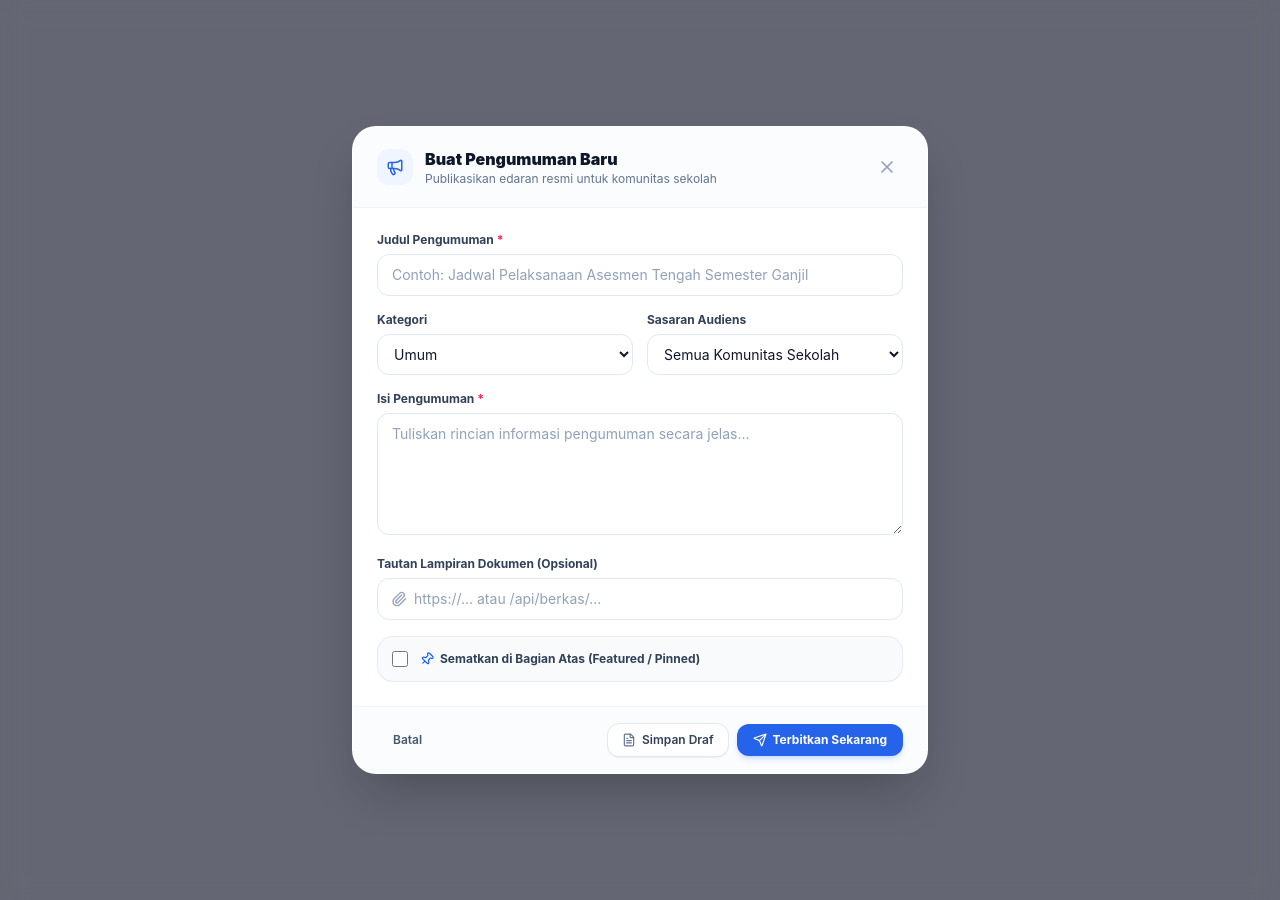
Test: M16 & M17 Presentation Views — Academic Glass UI v1.2 › merender CreateAnnouncementModal dan memvalidasi input
expect the heading "Buat Pengumuman Baru" is shown: met, box [425, 149, 618, 169]
Klik Terbitkan dengan input kosong
Click the button "Terbitkan Sekarang" at (820, 740), box [736, 724, 903, 756]
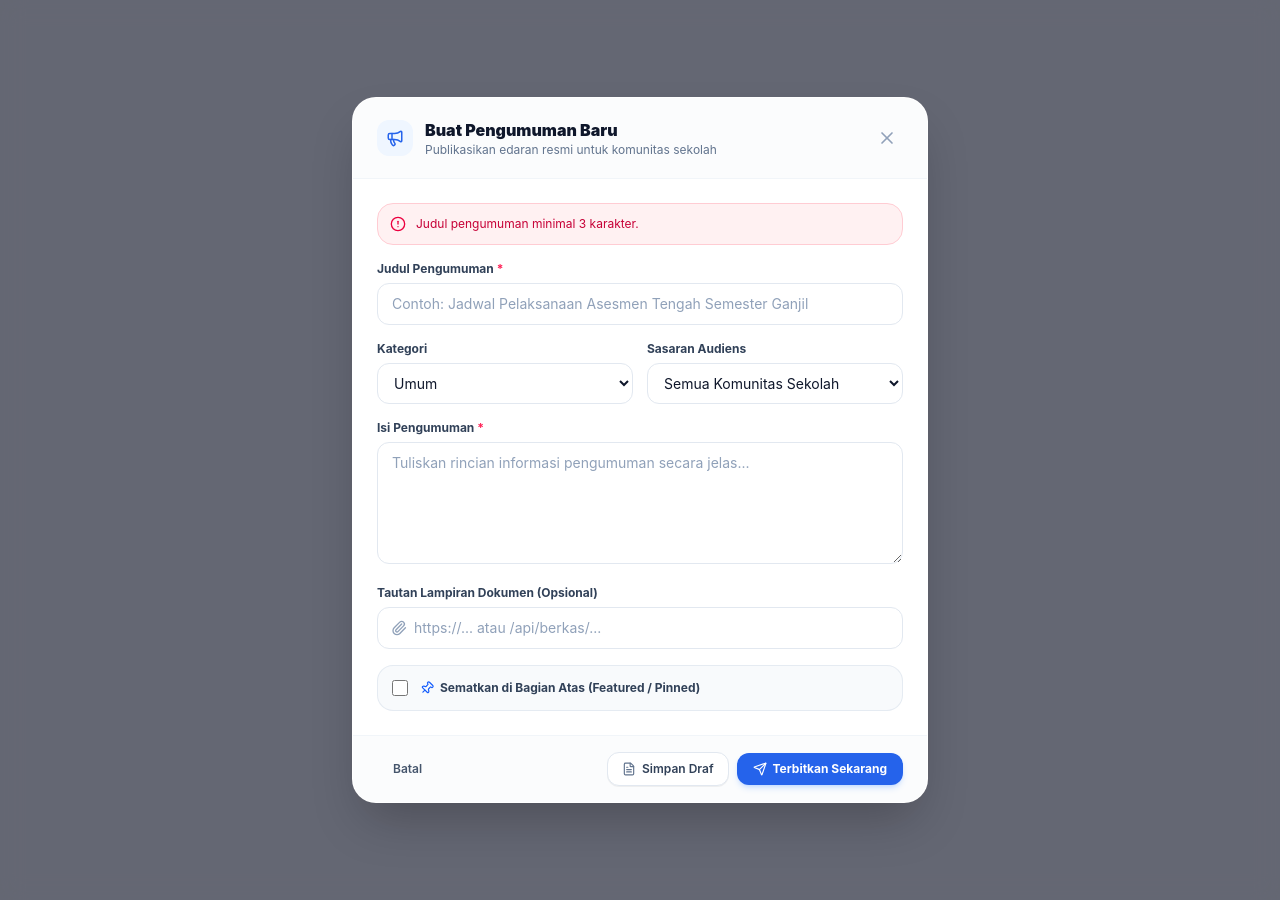
expect the text "Judul pengumuman minimal 3 karakter." is shown: met, box [416, 216, 639, 232]
